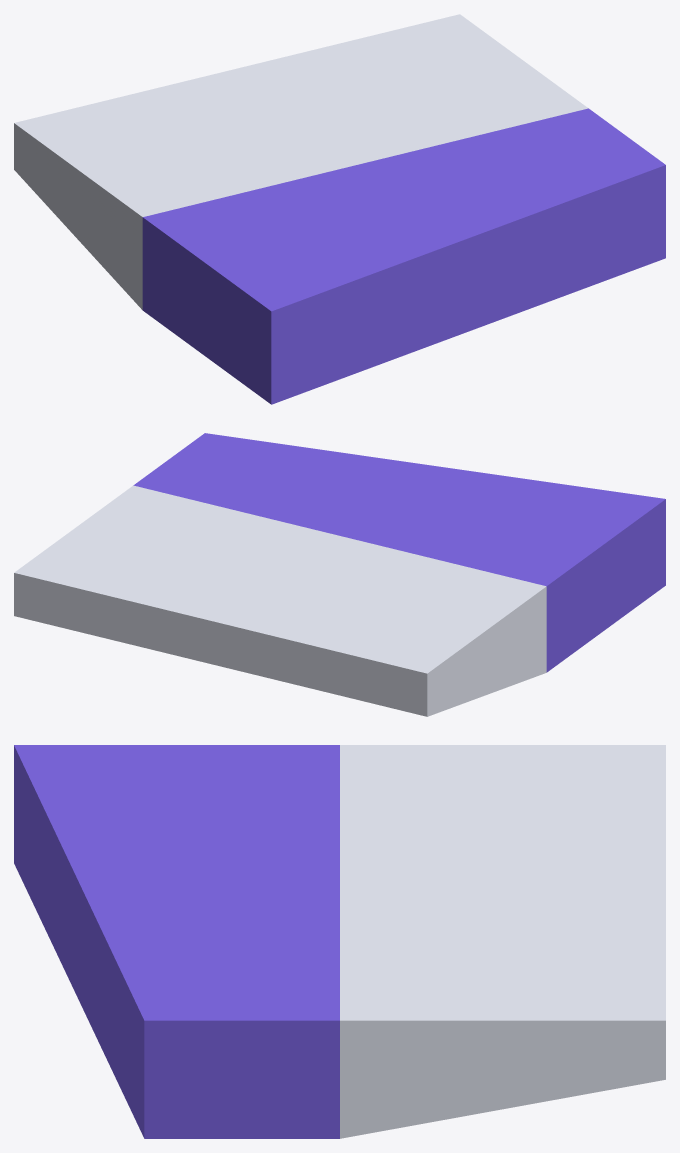
Rendered from Wing_5.fbx.
3 views of the same model, one above another, from view 1: azimuth 30°, elevation 25°; view 2: azimuth 150°, elevation 25°; view 3: azimuth 270°, elevation 25° (orthographic). The views are drawn at different scales.
Visible parts, largest first — view 1: wing_slant; view 2: wing_slant; view 3: wing_slant.
Part boxes in pixels (bbox=[...]): wing_slant: bbox=[14, 14, 665, 404]; wing_slant: bbox=[14, 433, 665, 716]; wing_slant: bbox=[14, 745, 665, 1138].
Bounding box in the file's own units: 10 × 2 × 10.
